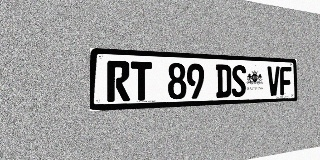8: (168, 63, 186, 100)
9: (187, 63, 204, 99)
D: (216, 64, 231, 98)
F: (280, 66, 292, 95)
R: (107, 60, 130, 102)
S: (232, 65, 246, 97)
T: (131, 61, 152, 101)
V: (267, 66, 280, 96)
